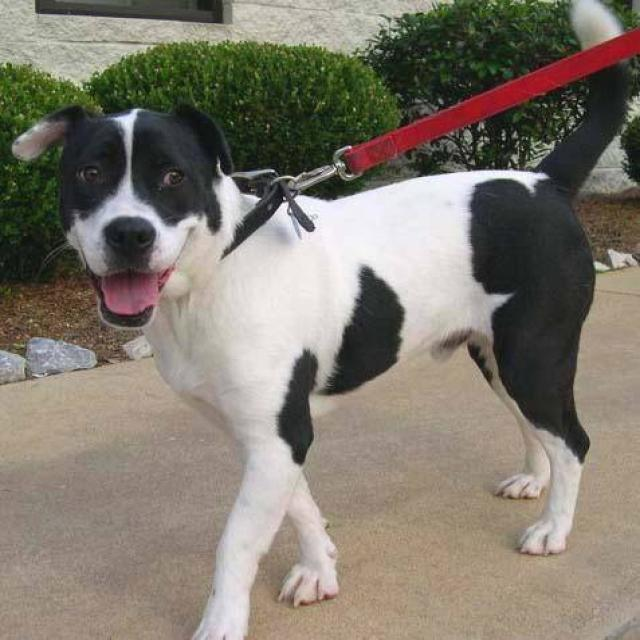adult_dog: (12, 1, 629, 640)
